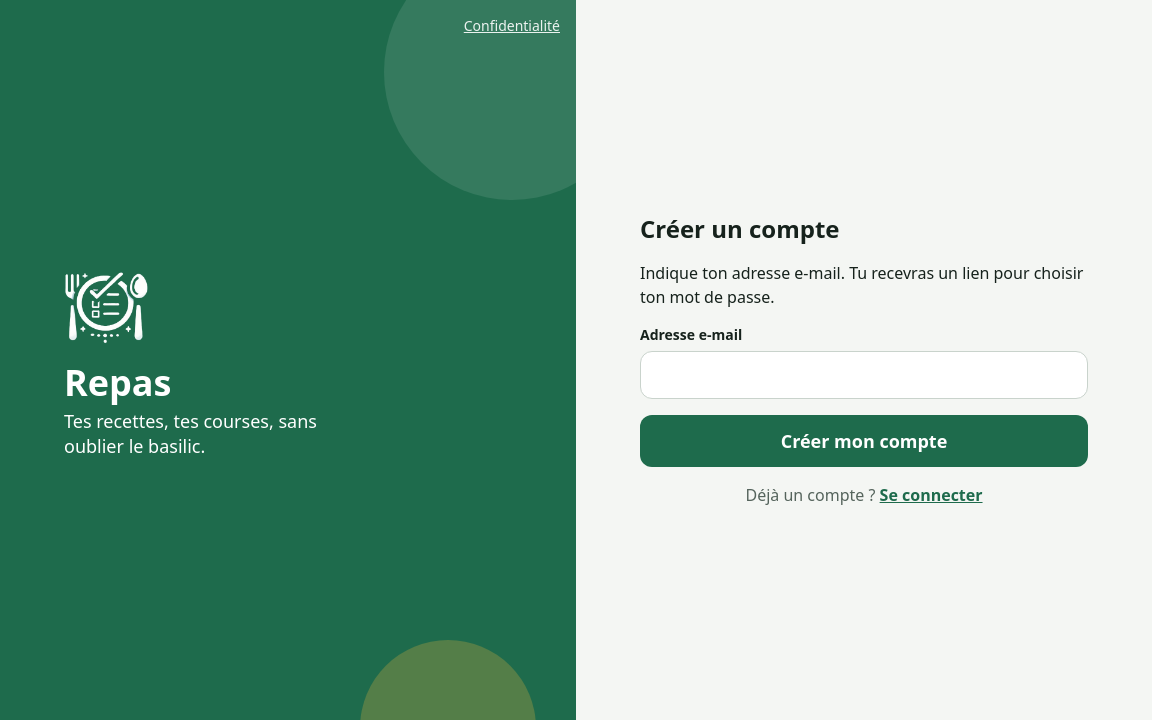
Scenario: RegisterView › répond clairement à un 429 (Retry-After 60)
In the field labelled "Adresse e-mail": (864, 375) [640,351,1088,399], type "alexiane@example.com"
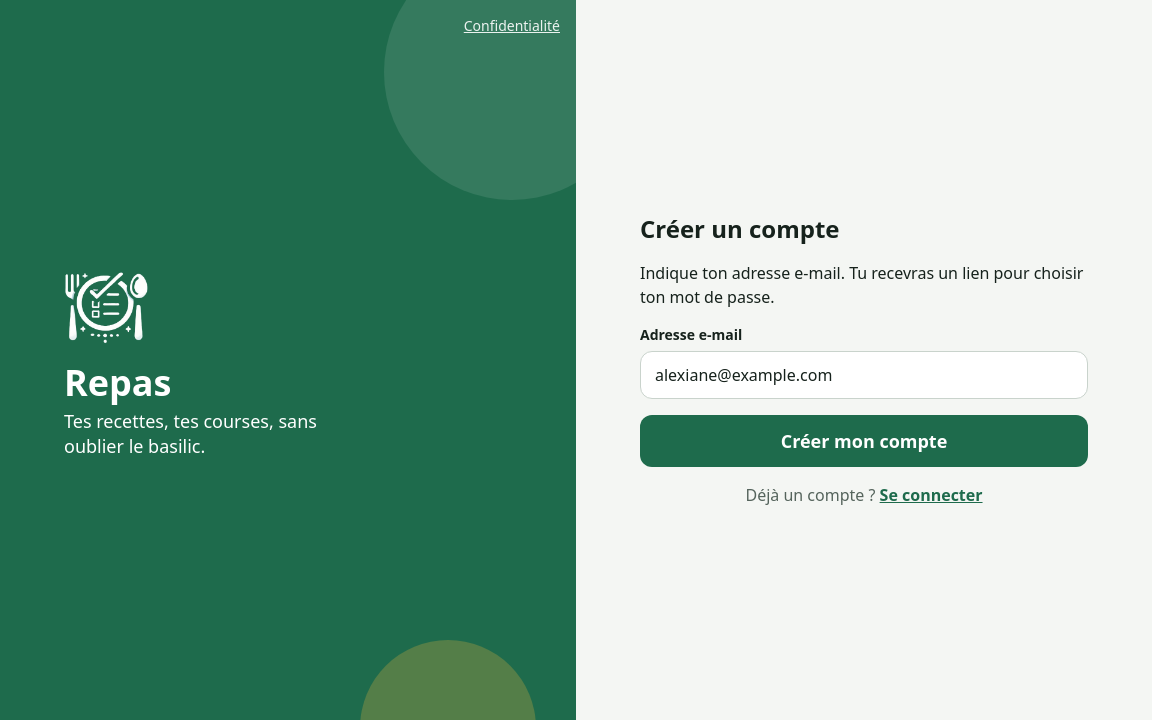
Submit the form, box [640,325,1088,467]
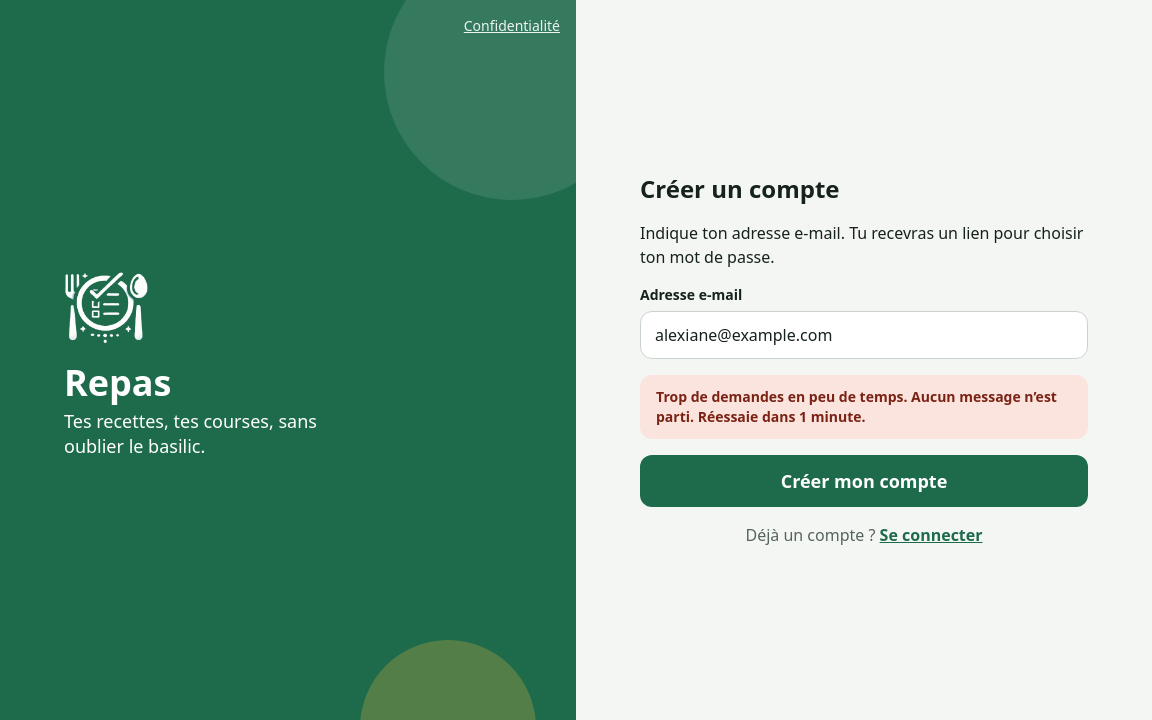
Expected: the submit button is enabled, [640,455,1088,507]
Now the message shows "Trop de demandes en peu de temps. Aucun message n’est parti. Réessaie dans 1 minute.", box [656,387,1057,426]
